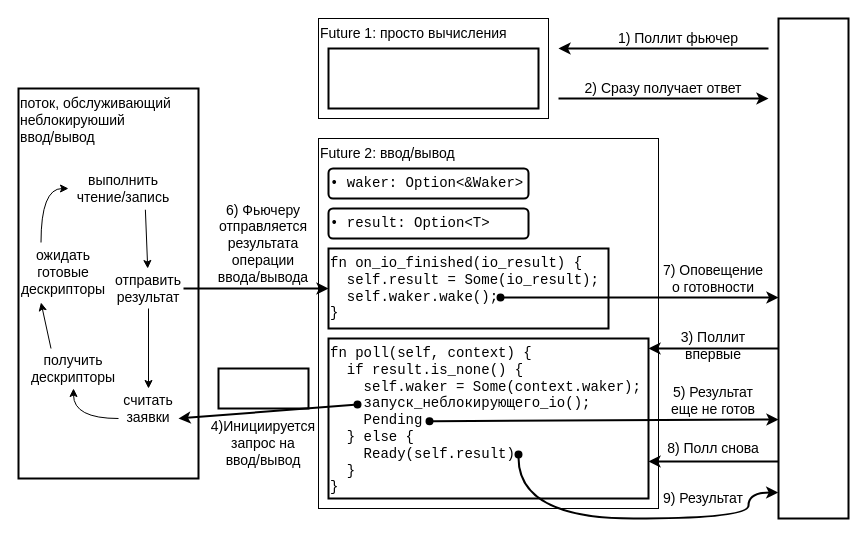
Image size: 866x536. Some labels were removed from this diagram. Each missing label, with the centre of its shape:
"Executor" belongs at (813,268).
"fn poll(self, context) { Ready(вычисление) }" belongs at (433,78).
"заявки на ввод/вывод" belongs at (263,388).
